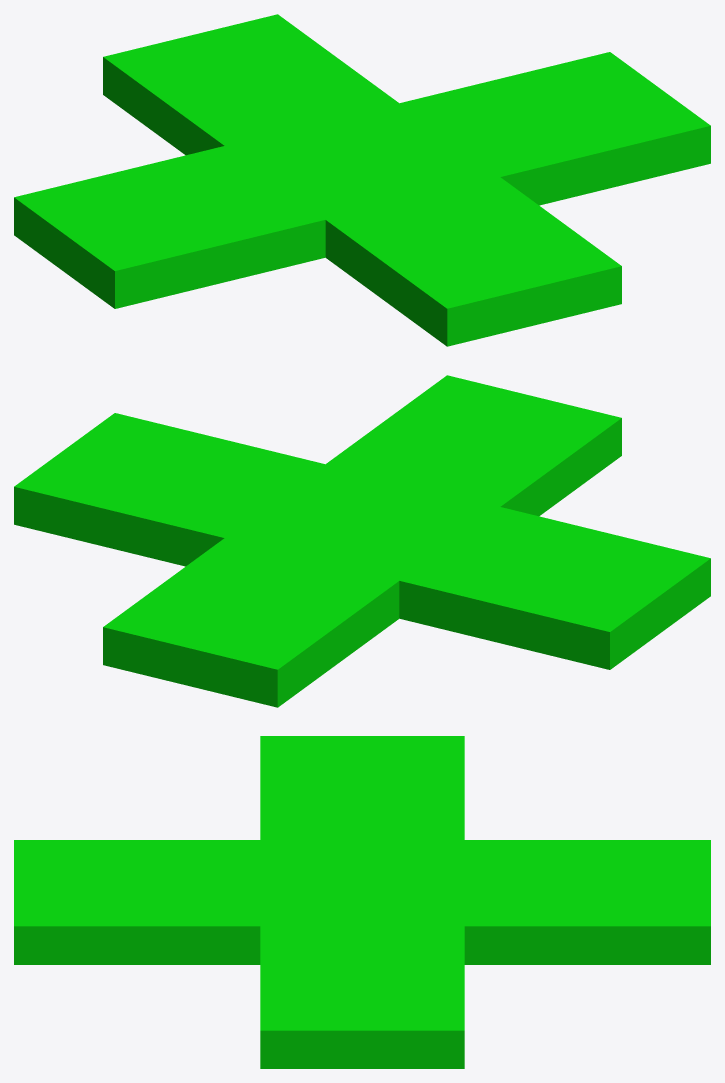
Rendered from GlyphIcon_Heal.fbx.
The picture shows the model from 3 angles, top to bottom: view 1: azimuth 30°, elevation 25°; view 2: azimuth 150°, elevation 25°; view 3: azimuth 270°, elevation 25°; orthographic projection.
Parts seen in each view (by area): view 1: HealIcon; view 2: HealIcon; view 3: HealIcon.
Boxes of the visible parts, x1=… form: HealIcon: x1=14, y1=14, x2=710, y2=346; HealIcon: x1=14, y1=375, x2=710, y2=707; HealIcon: x1=14, y1=736, x2=710, y2=1068.
Size of the model in its own units: 66.32 by 4.03 by 66.32.
